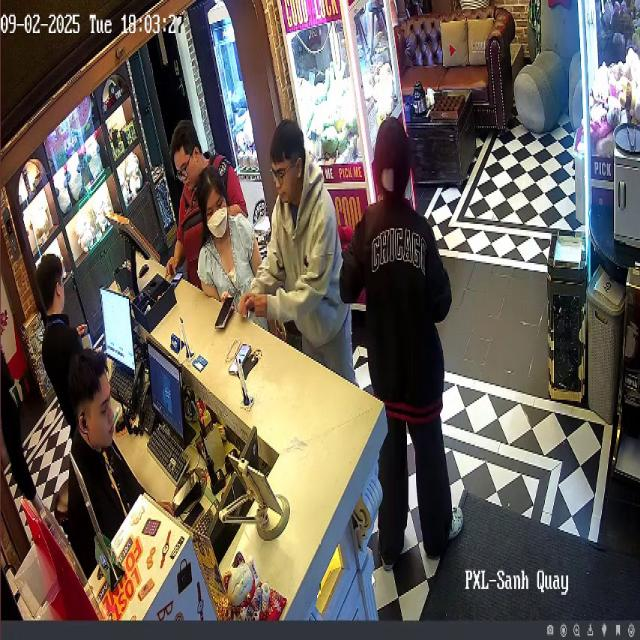khach: (337, 106, 472, 562), (254, 85, 356, 390), (161, 98, 253, 280), (197, 164, 266, 314)
nhan vien: (65, 348, 138, 584), (36, 256, 86, 432)
